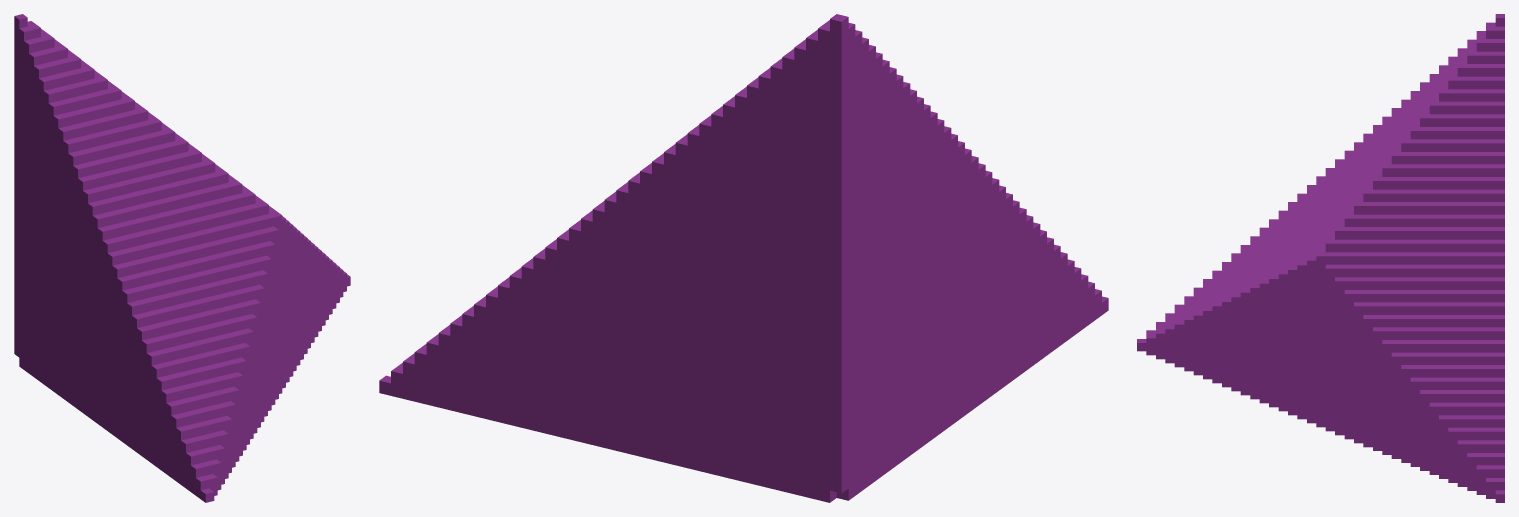
The model's file is crystal-2.obj.
3 views of the same model, side by side, from view 1: azimuth 30°, elevation 25°; view 2: azimuth 150°, elevation 25°; view 3: azimuth 270°, elevation 25° (orthographic). The views are drawn at different scales.
Size of the model in its own units: 3.9 by 3.9 by 3.9.
Materials: 1 (1 with a texture image).
